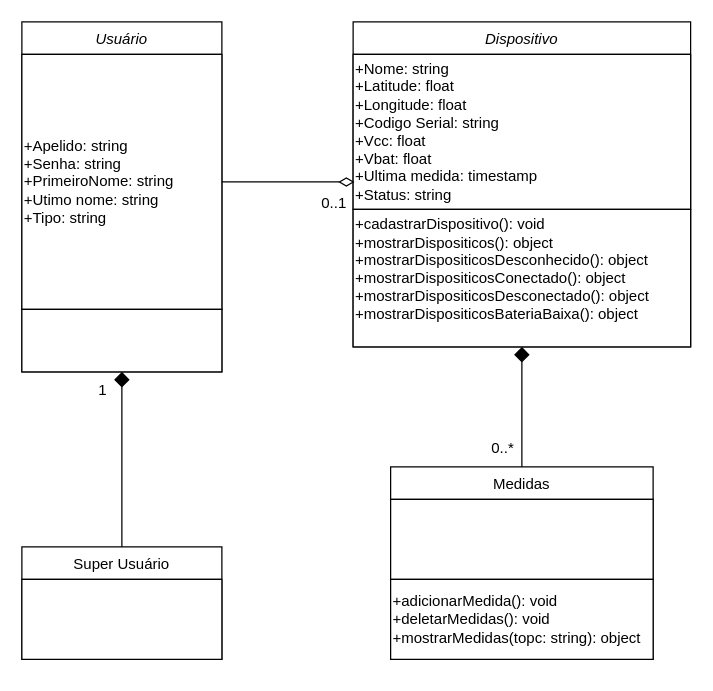
This 713x691 diagram has some shape labels left out. The shapes that lost their labels are listed below. From the top down, each one's centre as x and y in pixels, then its label:
point 121,340: +AtualizarCadastro(): object
point 521,538: +Timestamp: timestamp +Medida: float +Topico: string
point 121,618: +cadastrarUsuśrio (): void +deletarUsuśrio(): void
